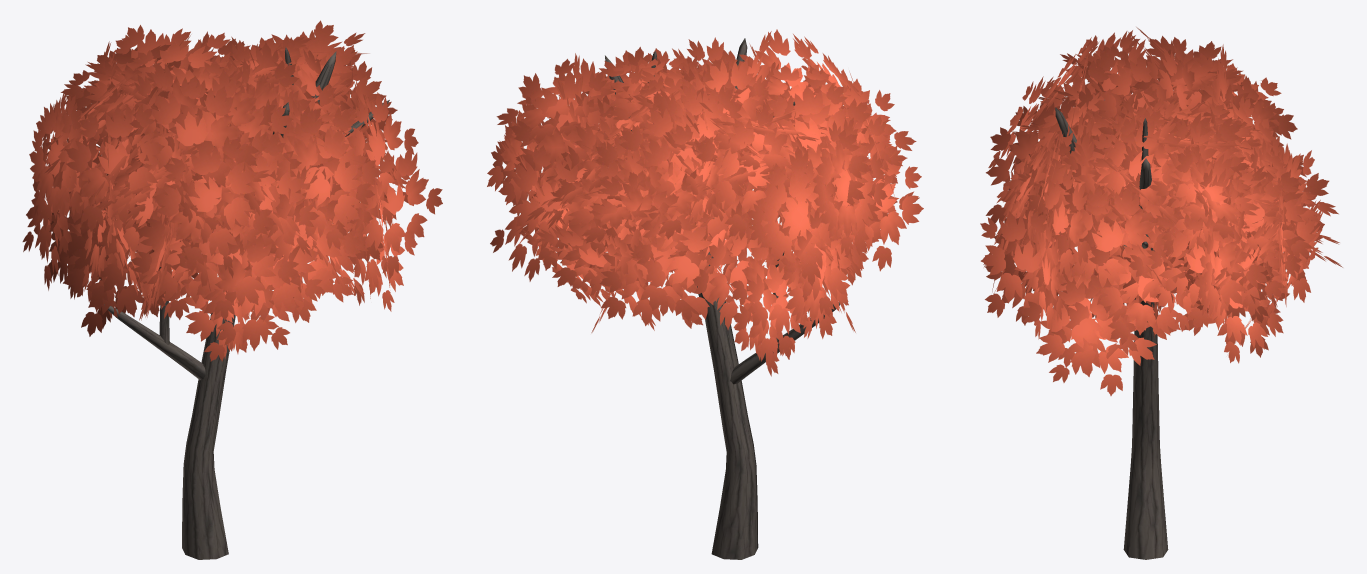
File: MapleTree_4.glb
3 renders of one model, left to right at view 1: azimuth 30°, elevation 25°; view 2: azimuth 150°, elevation 25°; view 3: azimuth 270°, elevation 25°, orthographic. The views are drawn at different scales.
Visible parts, largest first — view 1: MapleTree_4; view 2: MapleTree_4; view 3: MapleTree_4.
Part boxes in pixels (<box>): MapleTree_4: <box>22,20,442,559</box>; MapleTree_4: <box>487,29,923,559</box>; MapleTree_4: <box>980,27,1342,559</box>.
Bounding box in the file's own units: 2.77 × 3.59 × 2.44.
2 materials, 2 textured.
